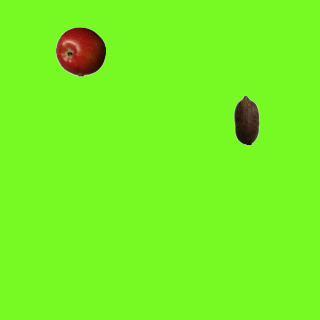Apple Braeburn: (55, 26, 105, 76)
Nut Pecan: (221, 94, 271, 144)
